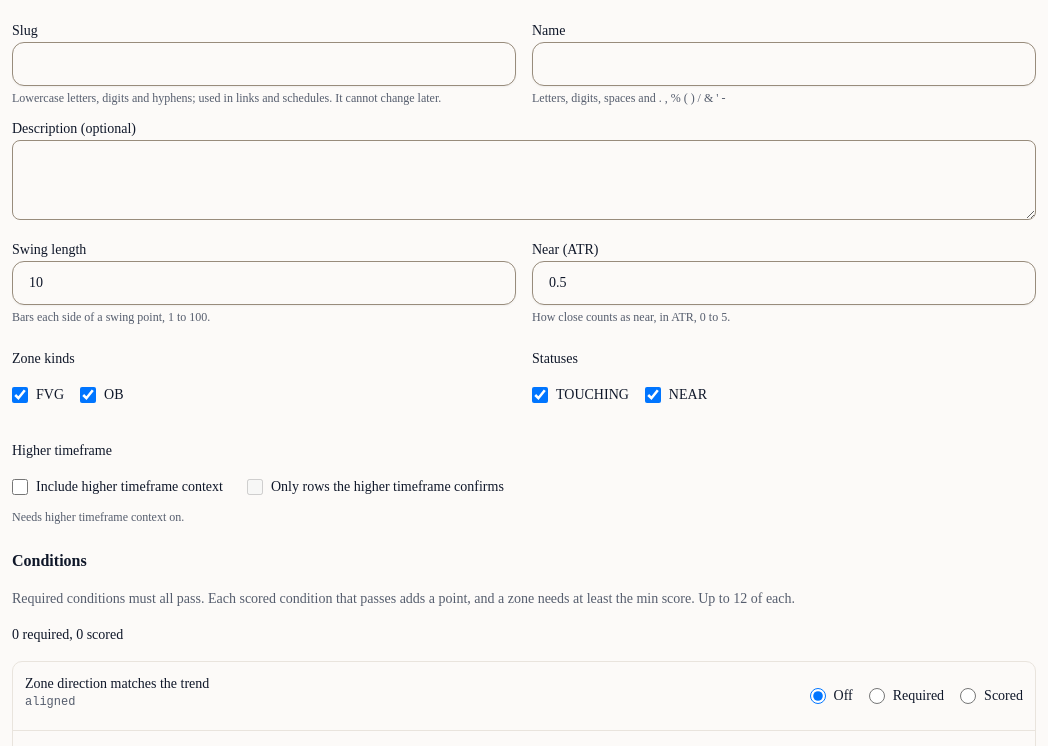
Test case: StrategyForm › keeps require_htf_aligned off and disabled until mtf is on
Check: the checkbox labelled "Only rows the higher timeframe confirms" is disabled, box [247,479,263,495]
Click the checkbox labelled "Include higher timeframe context" at (20, 487), box [12,479,28,495]
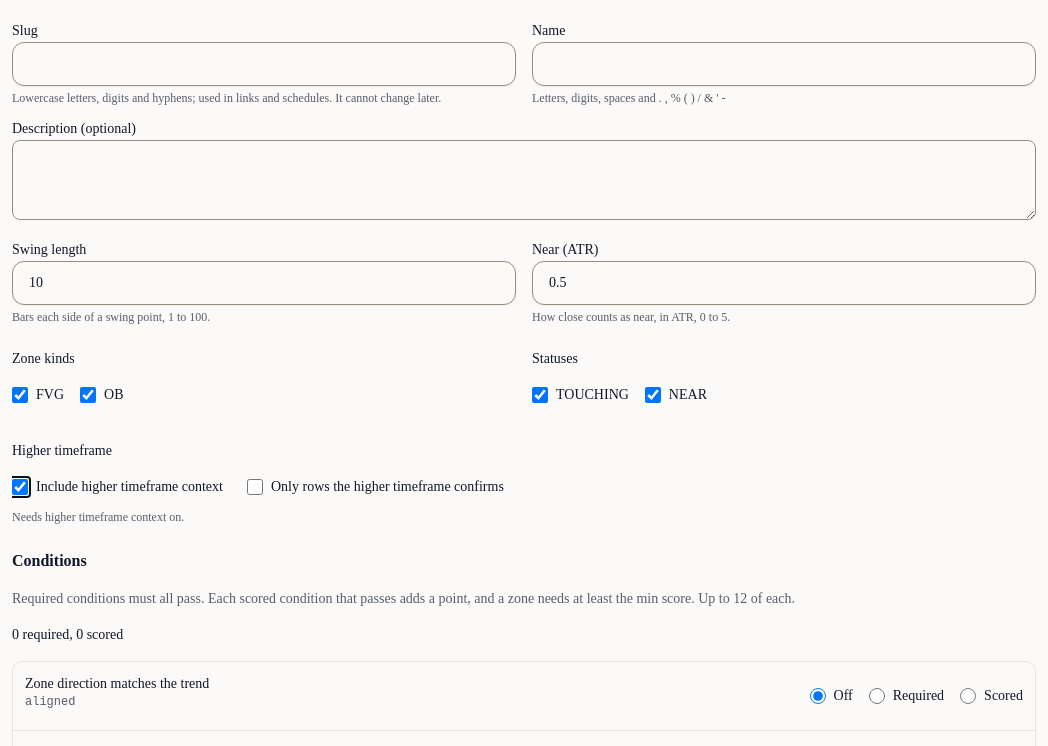
Click the checkbox labelled "Only rows the higher timeframe confirms" at (255, 487), box [247,479,263,495]
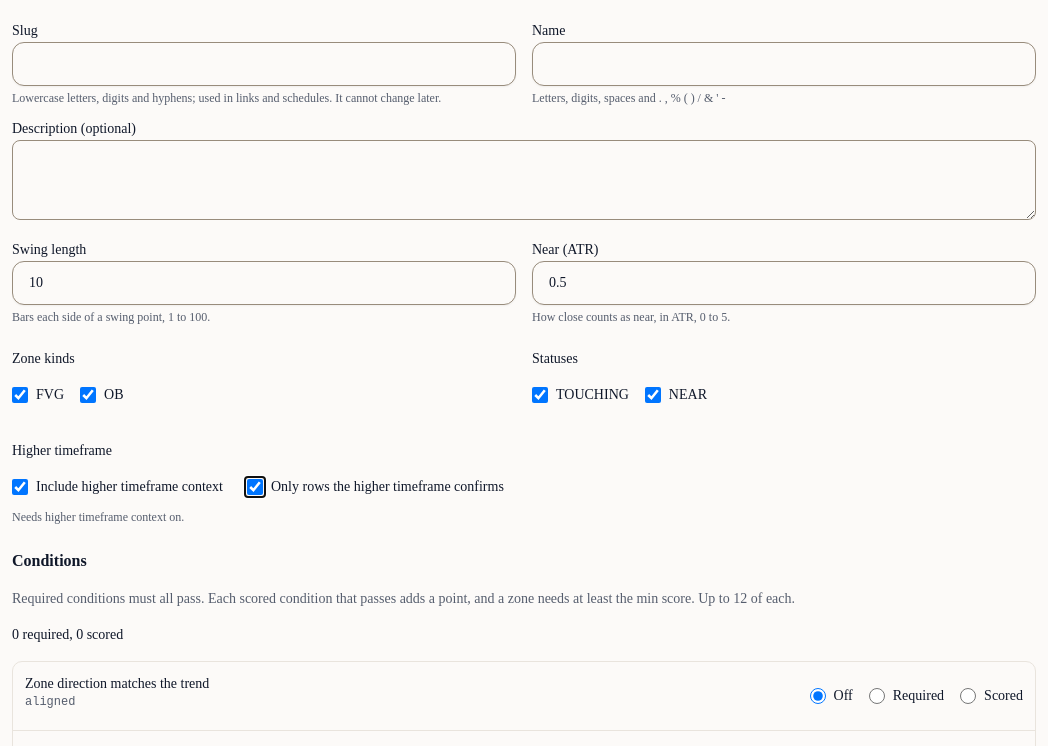
Check: the checkbox labelled "Only rows the higher timeframe confirms" is checked, box [247,479,263,495]
Click the checkbox labelled "Include higher timeframe context" at (20, 487), box [12,479,28,495]
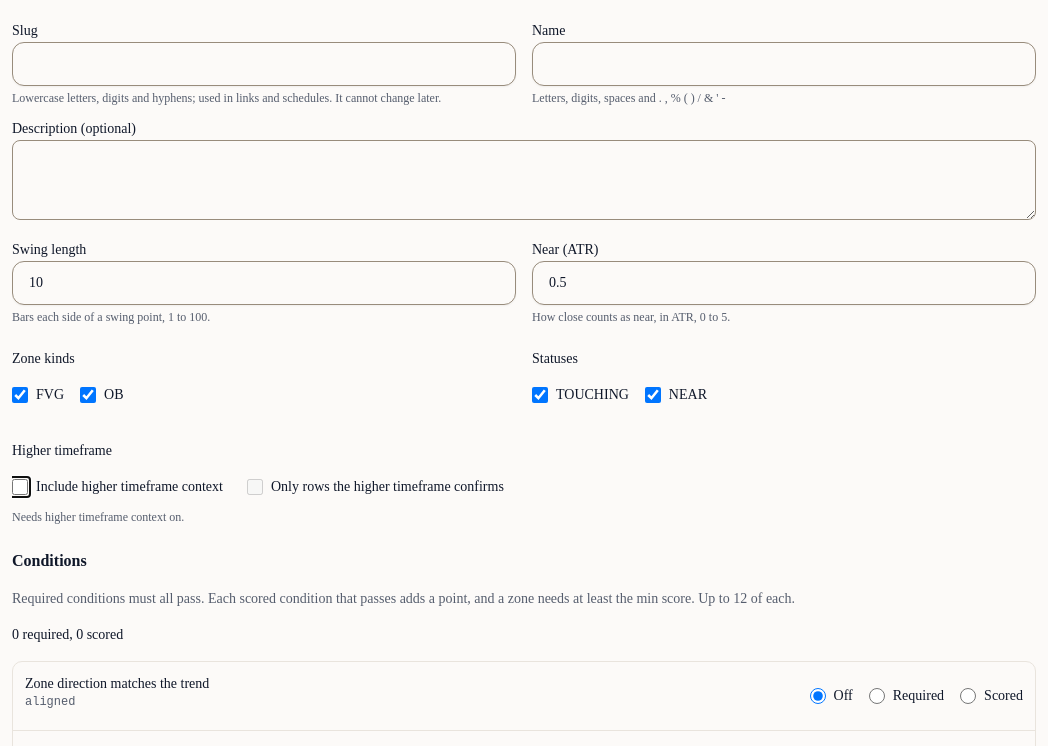
Check: the checkbox labelled "Only rows the higher timeframe confirms" is not checked, box [247,479,263,495]
Check: the checkbox labelled "Only rows the higher timeframe confirms" is disabled, box [247,479,263,495]
